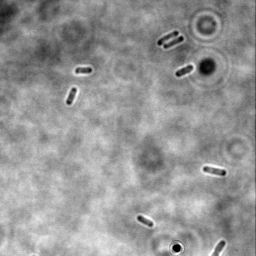Rod: (157, 29, 180, 47), (163, 34, 185, 51), (202, 164, 228, 178), (175, 63, 195, 79), (65, 86, 79, 106), (137, 214, 155, 229), (73, 65, 94, 76)
